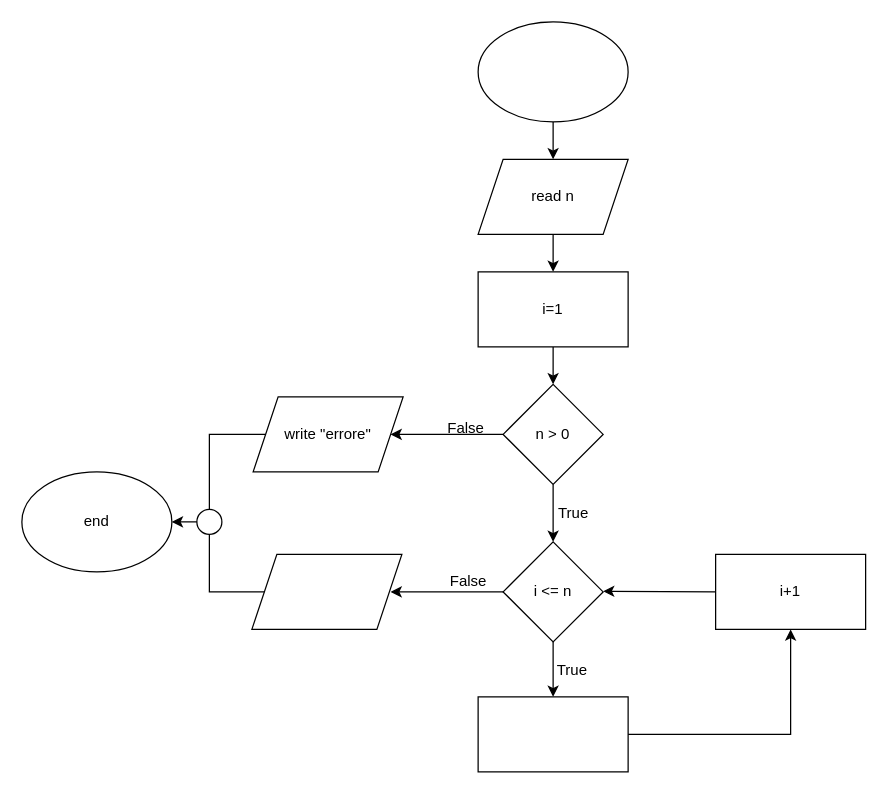
The diagram is 888 pixels wide and 794 high, and some of its shapes have lost their labels. Here are the shapes that lost their labels. From the top down, the centre of each, then its label:
At (x=552, y=71): "start".
At (x=326, y=591): "write sum".
At (x=552, y=734): "sum= i^2+sum".
